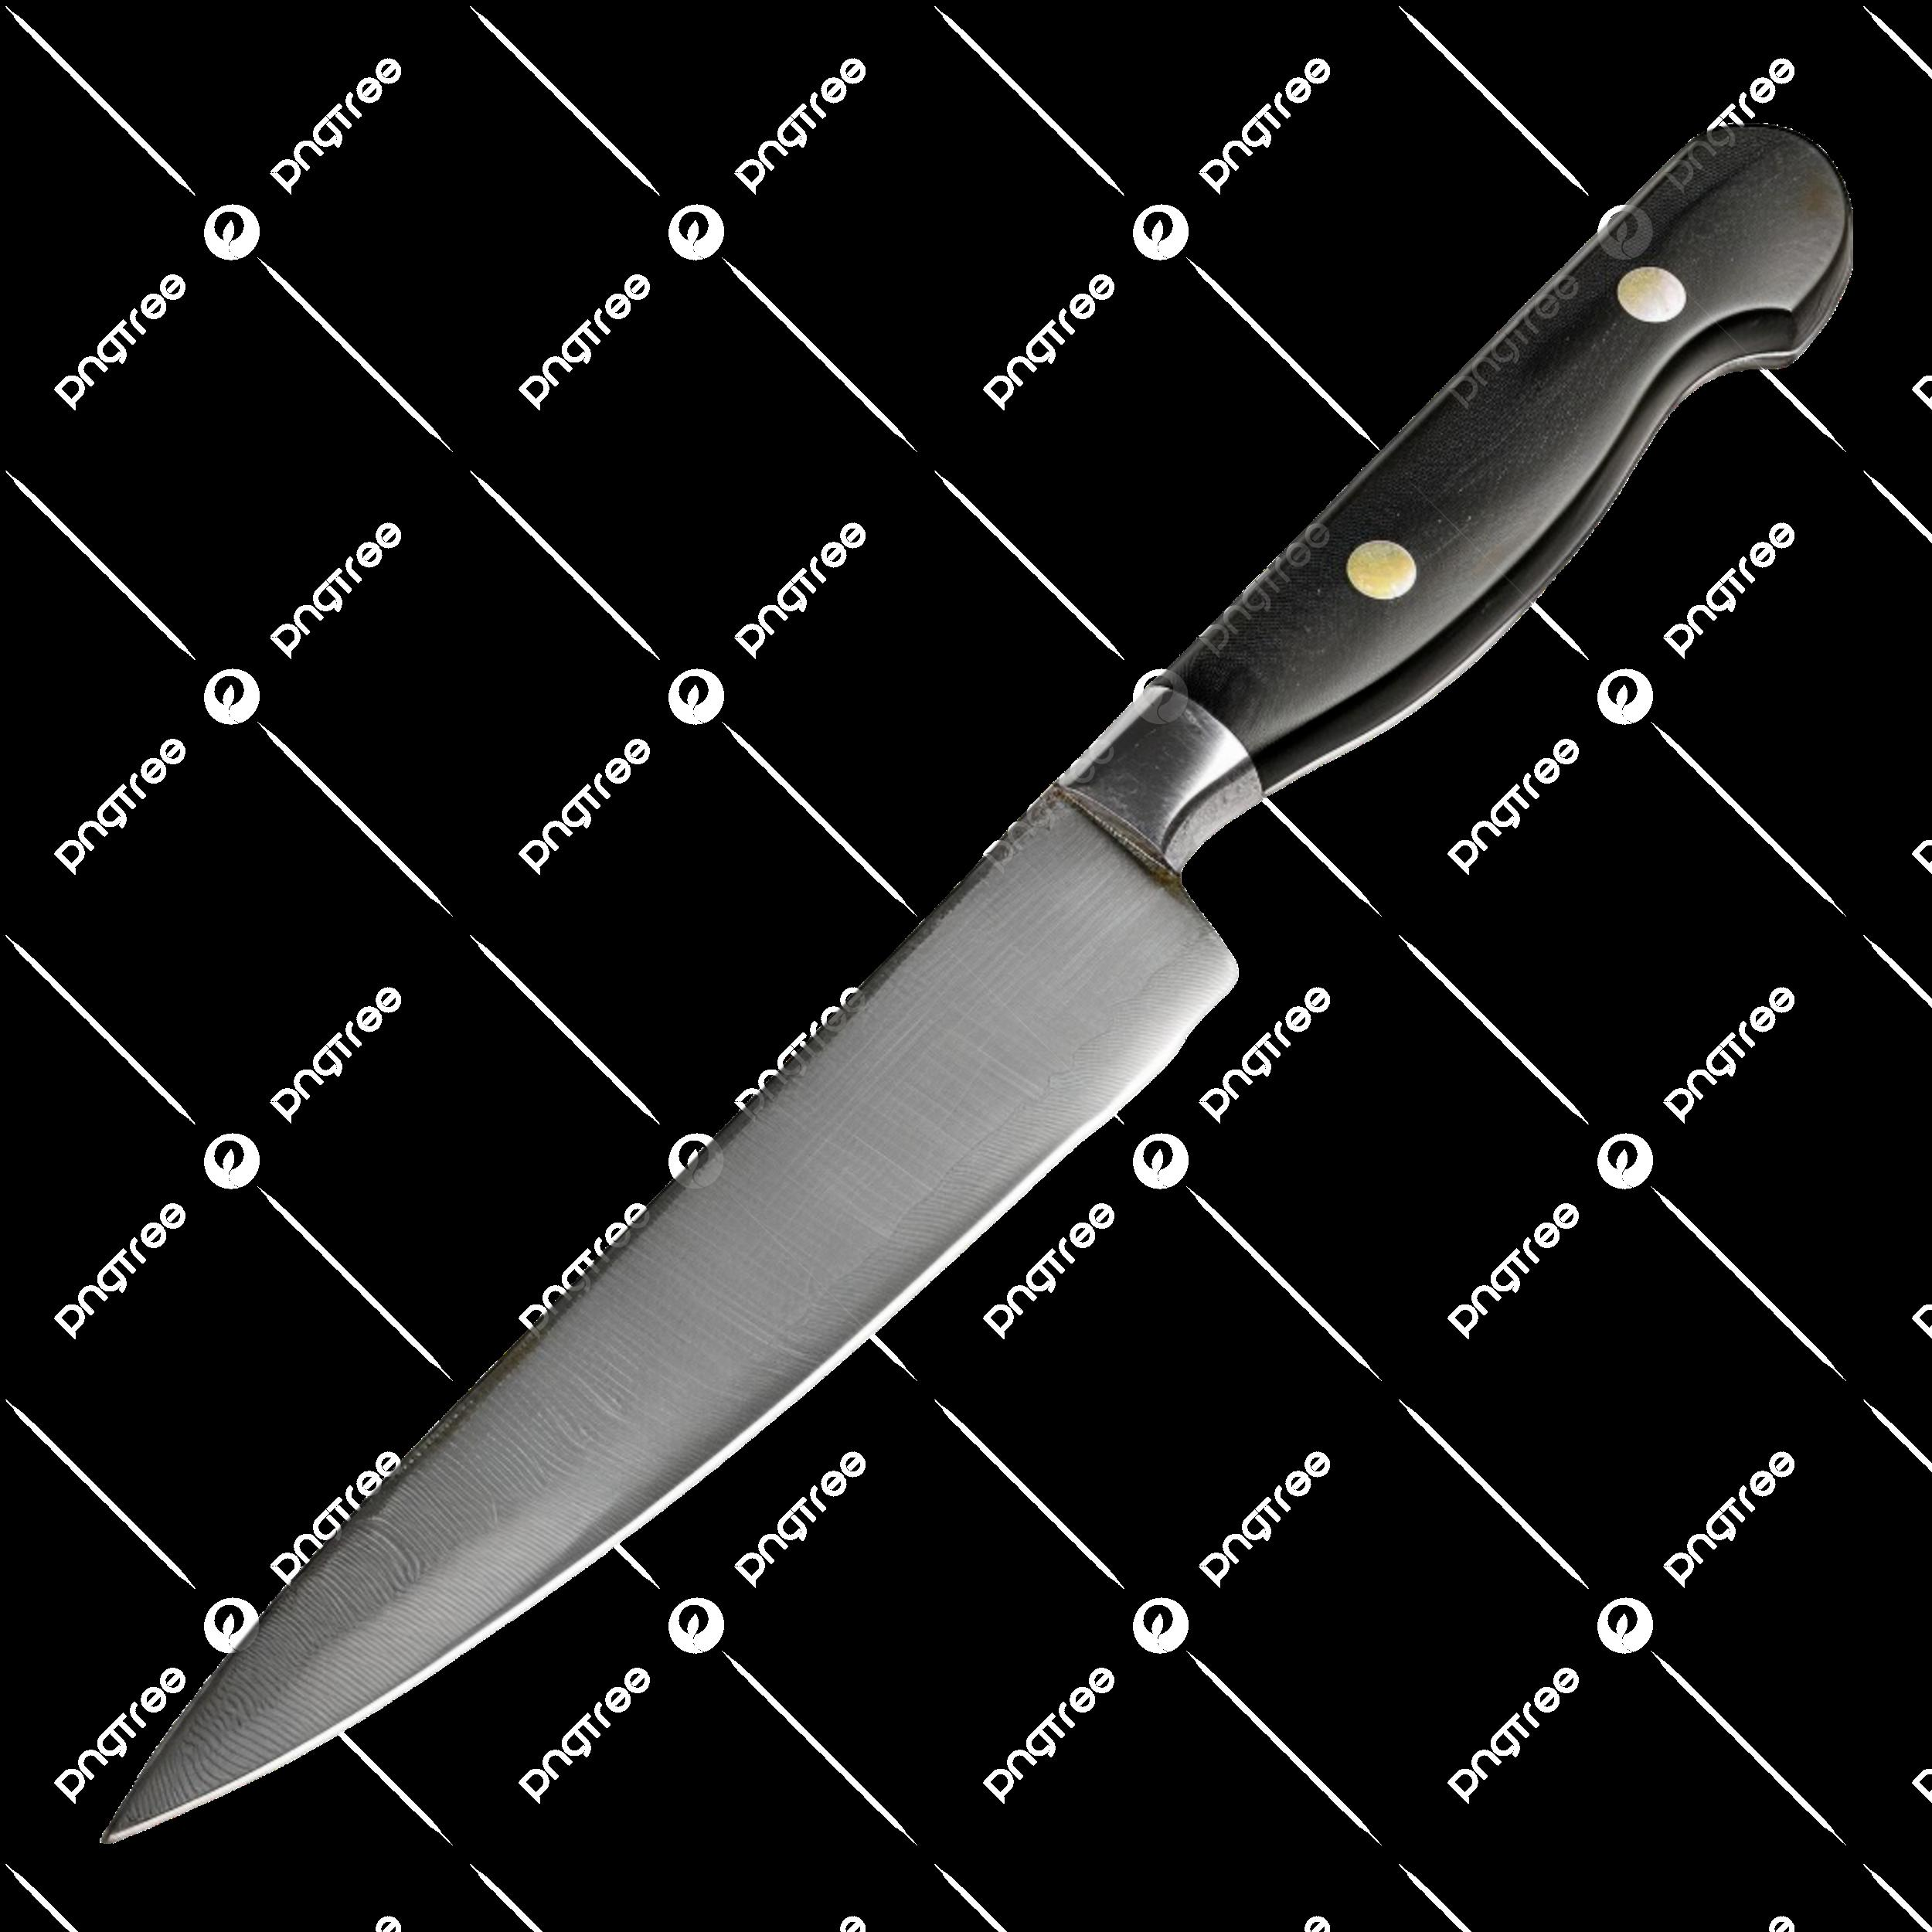Knife: (96, 113, 1854, 1845)
